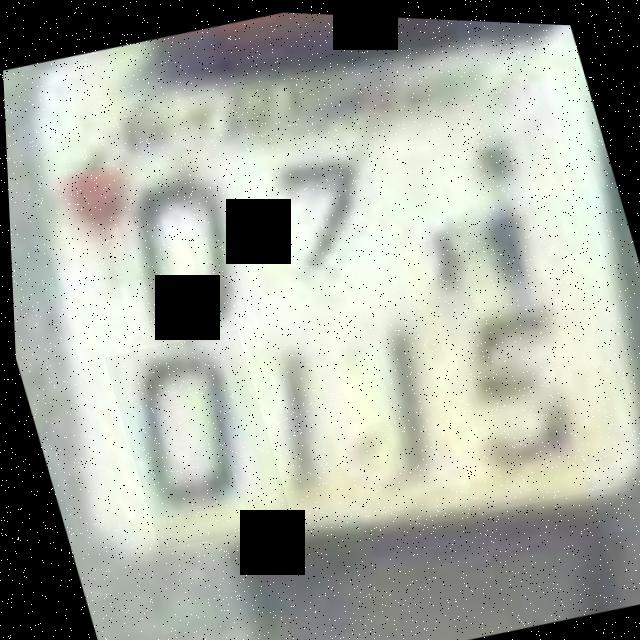1: (316, 280, 487, 502), (218, 312, 378, 523)
5: (421, 257, 606, 467)
O: (100, 322, 290, 552), (85, 141, 263, 376)
Z: (217, 129, 400, 330)
